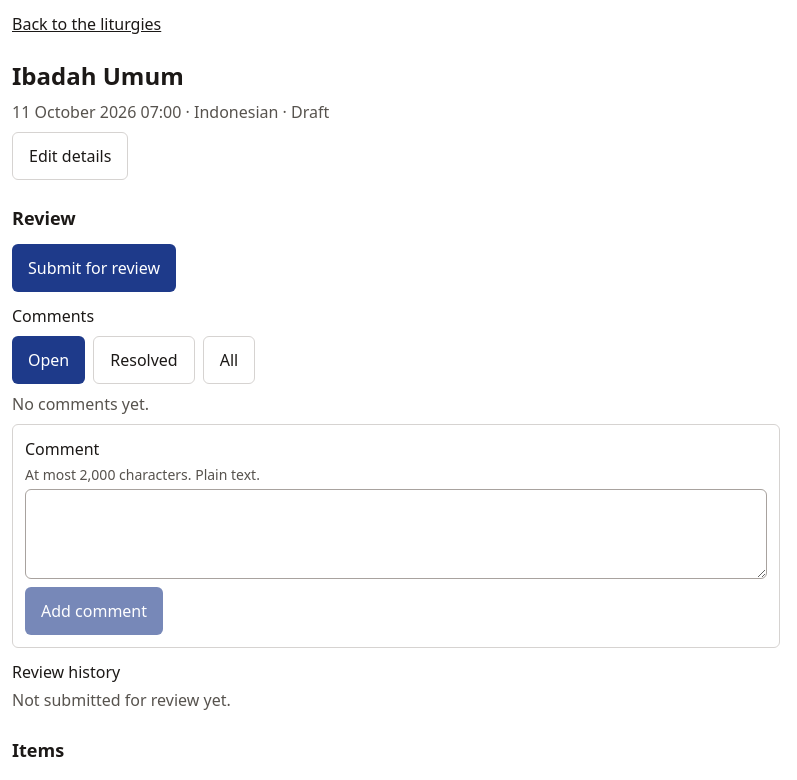
Test case: WT-R-003 submit › says so when there are no items
The width and height of the screenshot is (797, 780).
Click the button "Submit for review".
click(94, 268)  # box [12,244,176,292]
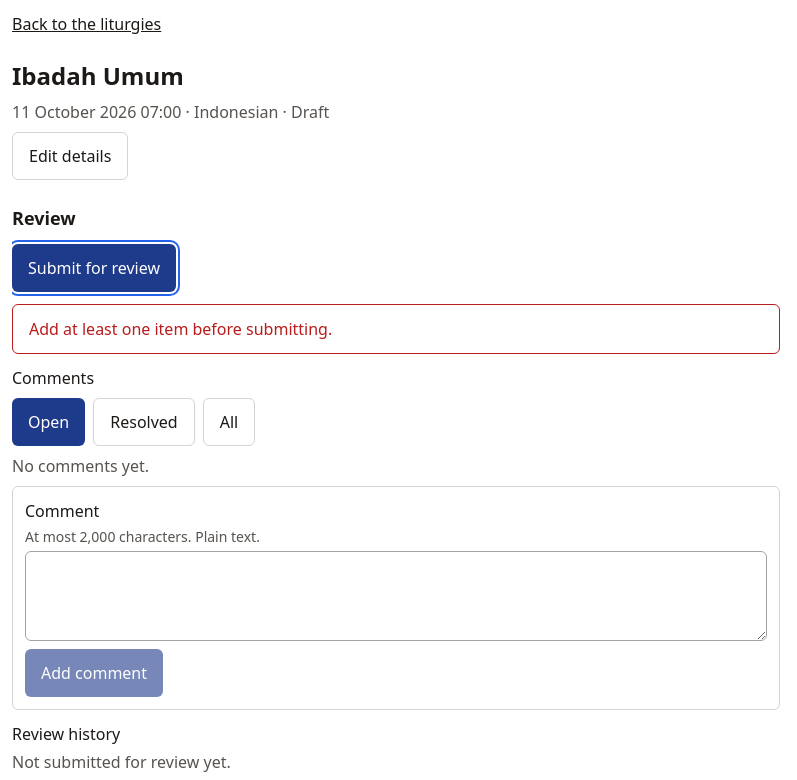
Expected: the text "Add at least one item before submitting." is shown, [29,318,332,340]
